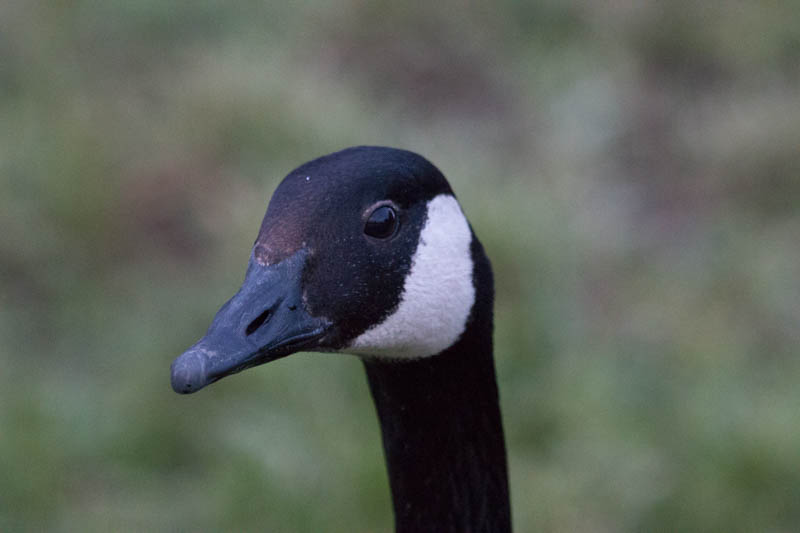goose-head: (170, 146, 494, 395)
